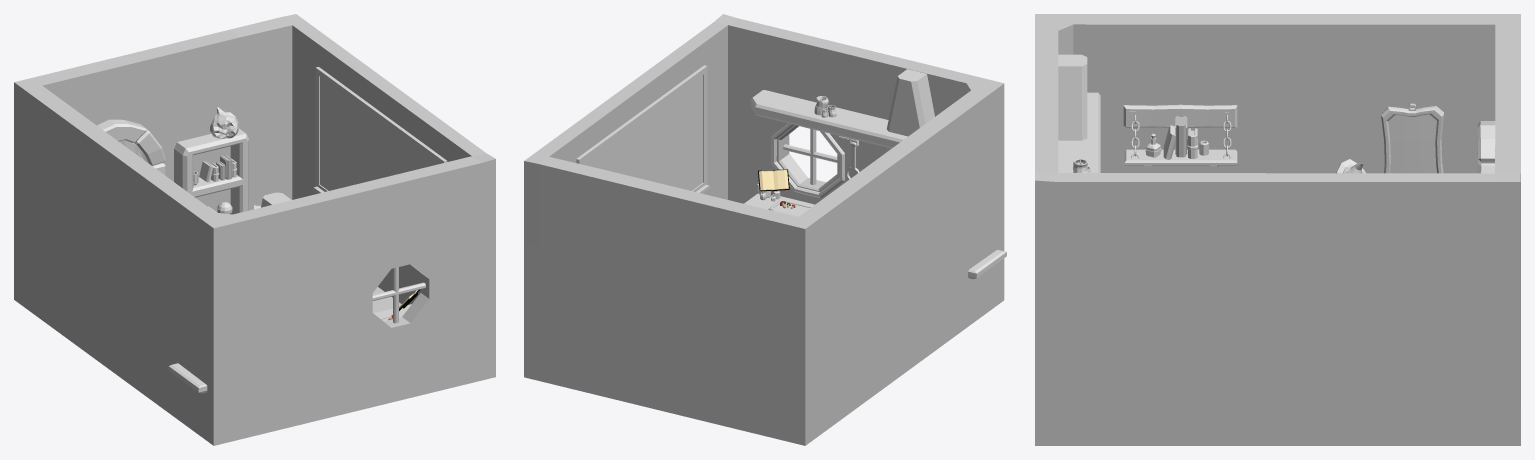
Rendered from witchhood.fbx.
3 renders of one model, left to right at view 1: azimuth 30°, elevation 25°; view 2: azimuth 150°, elevation 25°; view 3: azimuth 270°, elevation 25°, orthographic. The views are drawn at different scales.
Parts seen in each view (by area): view 1: Cube.033, Plane.003, Cube.049, Cube.060, Cube.048, Cube.013, Sphere.003, Cube.046; view 2: Cube.033, Plane.003, Cube.019, Cube.021, Cube.060, Cube.020, Cube.013, Cube.034; view 3: Cube.033, Cube.035, Cube.032, Cube.021, Cube.019, Cube.048, Cube.005.
Part boxes in pixels (left/top/right/bottom): Cube.033: left=14, top=14, right=495, bottom=445; Plane.003: left=320, top=77, right=438, bottom=190; Cube.049: left=174, top=128, right=248, bottom=214; Cube.060: left=312, top=67, right=447, bottom=193; Cube.048: left=97, top=119, right=146, bottom=142; Cube.013: left=168, top=304, right=411, bottom=393; Sphere.003: left=210, top=107, right=238, bottom=138; Cube.046: left=133, top=129, right=165, bottom=165; Cube.033: left=524, top=14, right=1004, bottom=445; Plane.003: left=582, top=75, right=702, bottom=190; Cube.019: left=750, top=90, right=907, bottom=148; Cube.021: left=886, top=69, right=934, bottom=152; Cube.060: left=576, top=65, right=710, bottom=193; Cube.020: left=771, top=123, right=844, bottom=197; Cube.013: left=744, top=193, right=1006, bottom=278; Cube.034: left=758, top=169, right=789, bottom=195; Cube.033: left=1035, top=14, right=1520, bottom=445; Cube.035: left=1381, top=103, right=1443, bottom=173; Cube.032: left=1123, top=104, right=1237, bottom=166; Cube.021: left=1058, top=54, right=1087, bottom=140; Cube.019: left=1058, top=92, right=1100, bottom=172; Cube.048: left=1477, top=121, right=1495, bottom=164; Cube.005: left=1175, top=116, right=1187, bottom=157.
Size of the model in its own units: 307 by 220 by 365.
